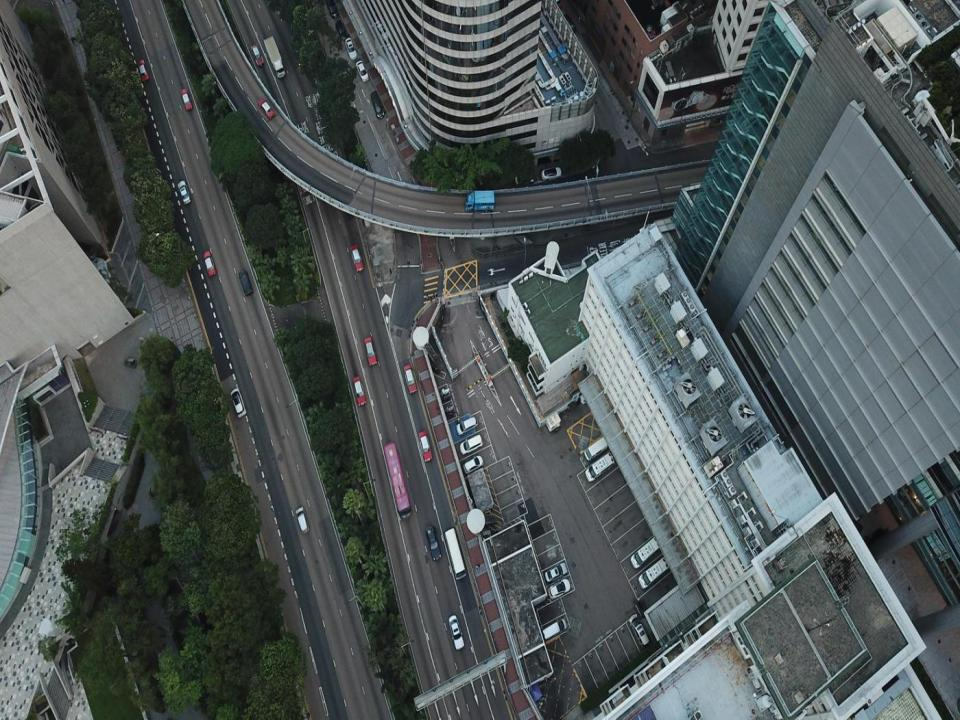bus: (382, 441, 414, 520), (444, 526, 466, 580)
car: (229, 386, 248, 418), (424, 526, 442, 559), (449, 614, 464, 651), (352, 372, 366, 406), (418, 430, 432, 463), (544, 562, 568, 581), (402, 364, 417, 394), (364, 334, 377, 366), (461, 456, 485, 473), (327, 0, 344, 23), (549, 580, 569, 599), (256, 98, 274, 119), (203, 249, 216, 278), (540, 164, 562, 181), (177, 178, 190, 206), (250, 43, 264, 68), (351, 246, 363, 275), (180, 87, 193, 112), (356, 60, 369, 85), (333, 18, 346, 40), (346, 37, 357, 61), (138, 58, 148, 82)
truck: (263, 34, 286, 78), (464, 189, 495, 213)
van: (628, 536, 659, 570), (584, 452, 614, 481), (638, 559, 668, 588), (628, 612, 649, 647), (583, 437, 609, 461), (542, 618, 568, 638), (456, 434, 482, 454), (370, 90, 386, 121), (236, 269, 253, 296), (295, 505, 309, 536), (455, 416, 476, 434)
